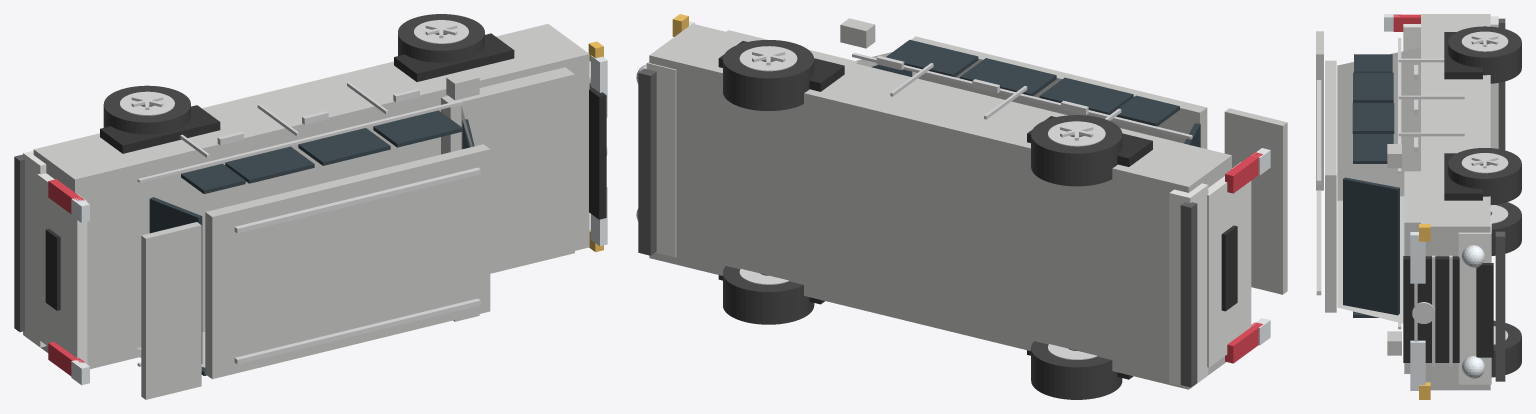
Rendered from innova-reborn.glb.
3 views of the same model, side by side, from view 1: azimuth 30°, elevation 25°; view 2: azimuth 150°, elevation 25°; view 3: azimuth 270°, elevation 25° (orthographic). The views are drawn at different scales.
Parts seen in each view (by area): view 1: thin_roof_panel, long_mpv_lower_body, front_hood_slightly_raised, small_rear_spoiler, rear_hatch_panel, tire_2, rear_bumper_white, tire_0, large_black_front_grille, black_wheel_well_1.48_0.975, black_wheel_well_-1.48_0.975, left_tinted_side_window_2 (+16 smaller); view 2: long_mpv_lower_body, small_rear_spoiler, rear_hatch_panel, tire_2, rear_bumper_white, tire_0, front_bumper_white, tire_3, tire_1, front_under_lip_dark, rear_under_lip_dark, sloped_mpv_cabin (+14 smaller); view 3: long_mpv_lower_body, front_windshield_dark_tint, sloped_mpv_cabin, large_black_front_grille, thin_roof_panel, front_bumper_white, tire_2, tire_0, lower_black_air_intake, front_under_lip_dark, left_tinted_side_window_2, left_tinted_side_window_3 (+32 smaller).
Boxes of the visible parts, x1,y1,x2,y2 form: thin_roof_panel: [205, 144, 490, 379]; long_mpv_lower_body: [33, 24, 589, 369]; front_hood_slightly_raised: [441, 67, 574, 273]; small_rear_spoiler: [141, 222, 201, 399]; rear_hatch_panel: [37, 173, 87, 363]; tire_2: [103, 85, 190, 134]; rear_bumper_white: [23, 150, 46, 347]; tire_0: [398, 14, 484, 62]; large_black_front_grille: [589, 83, 606, 219]; black_wheel_well_1.48_0.975: [394, 33, 514, 81]; black_wheel_well_-1.48_0.975: [100, 105, 220, 153]; left_tinted_side_window_2: [298, 128, 390, 165]; long_mpv_lower_body: [649, 23, 1231, 389]; small_rear_spoiler: [1224, 108, 1287, 294]; rear_hatch_panel: [1207, 162, 1251, 367]; tire_2: [1031, 115, 1122, 186]; rear_bumper_white: [1169, 183, 1208, 388]; tire_0: [723, 40, 814, 110]; front_bumper_white: [646, 61, 676, 257]; tire_3: [1031, 341, 1122, 399]; tire_1: [723, 266, 814, 324]; front_under_lip_dark: [638, 68, 656, 255]; rear_under_lip_dark: [1180, 202, 1197, 387]; sloped_mpv_cabin: [856, 52, 1188, 143]; long_mpv_lower_body: [1421, 14, 1490, 390]; front_windshield_dark_tint: [1343, 177, 1399, 315]; sloped_mpv_cabin: [1337, 47, 1420, 323]; large_black_front_grille: [1403, 256, 1459, 362]; thin_roof_panel: [1325, 60, 1336, 312]; front_bumper_white: [1458, 222, 1491, 384]; tire_2: [1448, 26, 1521, 83]; tire_0: [1448, 148, 1521, 204]; lower_black_air_intake: [1476, 263, 1493, 357]; front_under_lip_dark: [1495, 231, 1505, 381]; left_tinted_side_window_2: [1352, 103, 1394, 133]; left_tinted_side_window_3: [1353, 72, 1393, 102].
Size of the model in its own units: 5.54 by 2.34 by 2.12.
